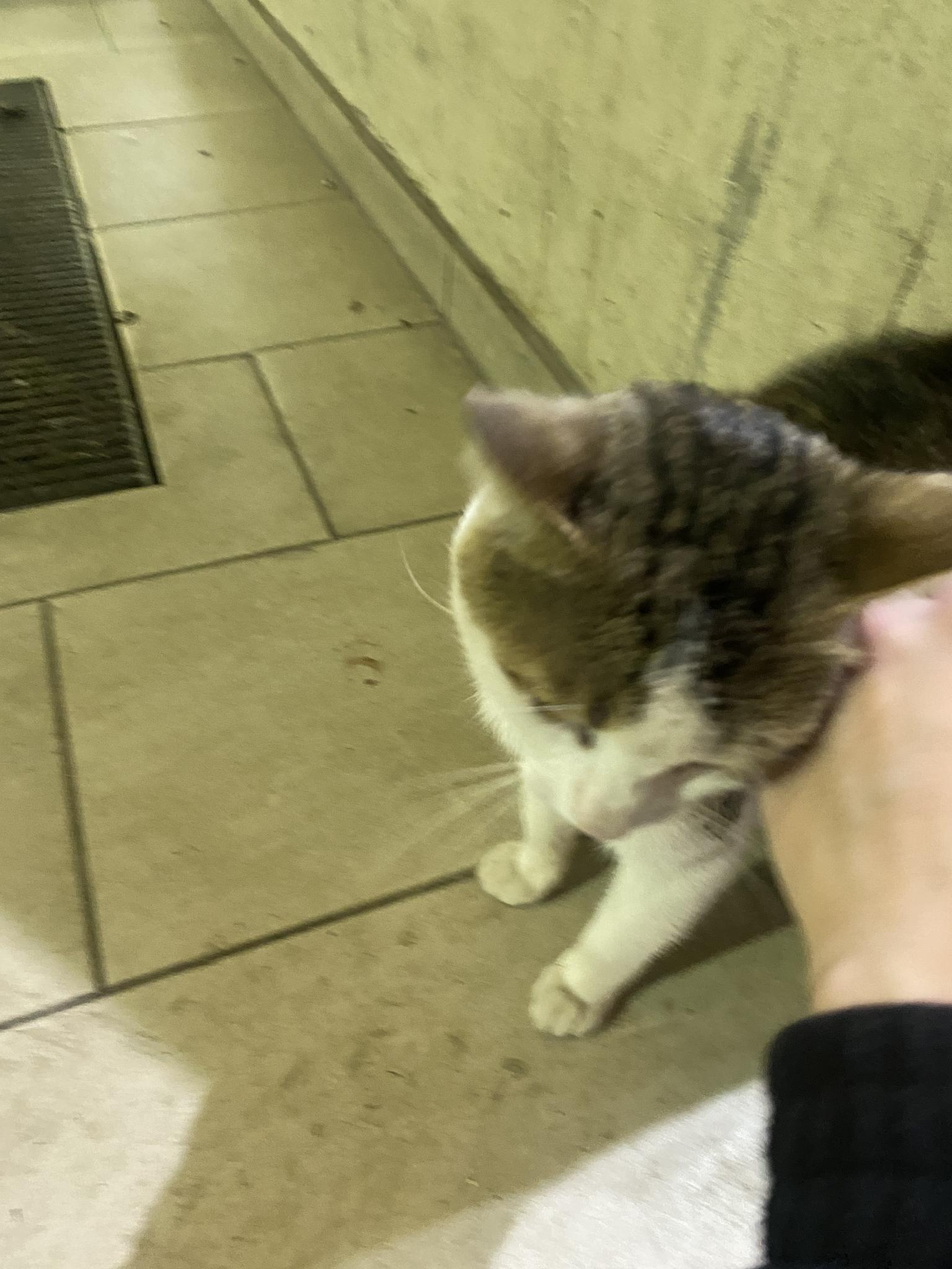macka: (448, 329, 952, 1037)
